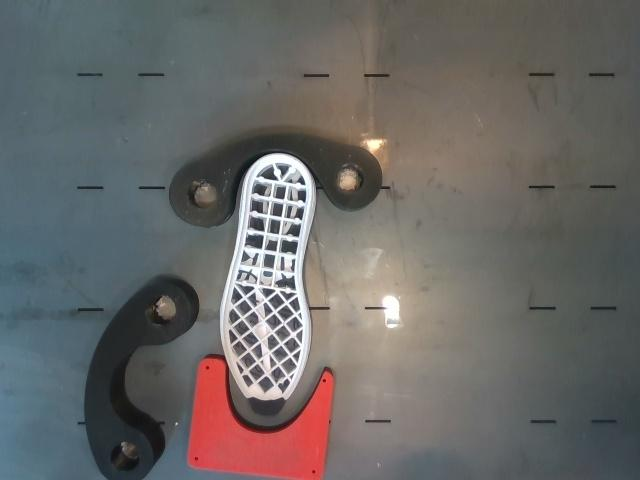shoes: (222, 155, 310, 413)
